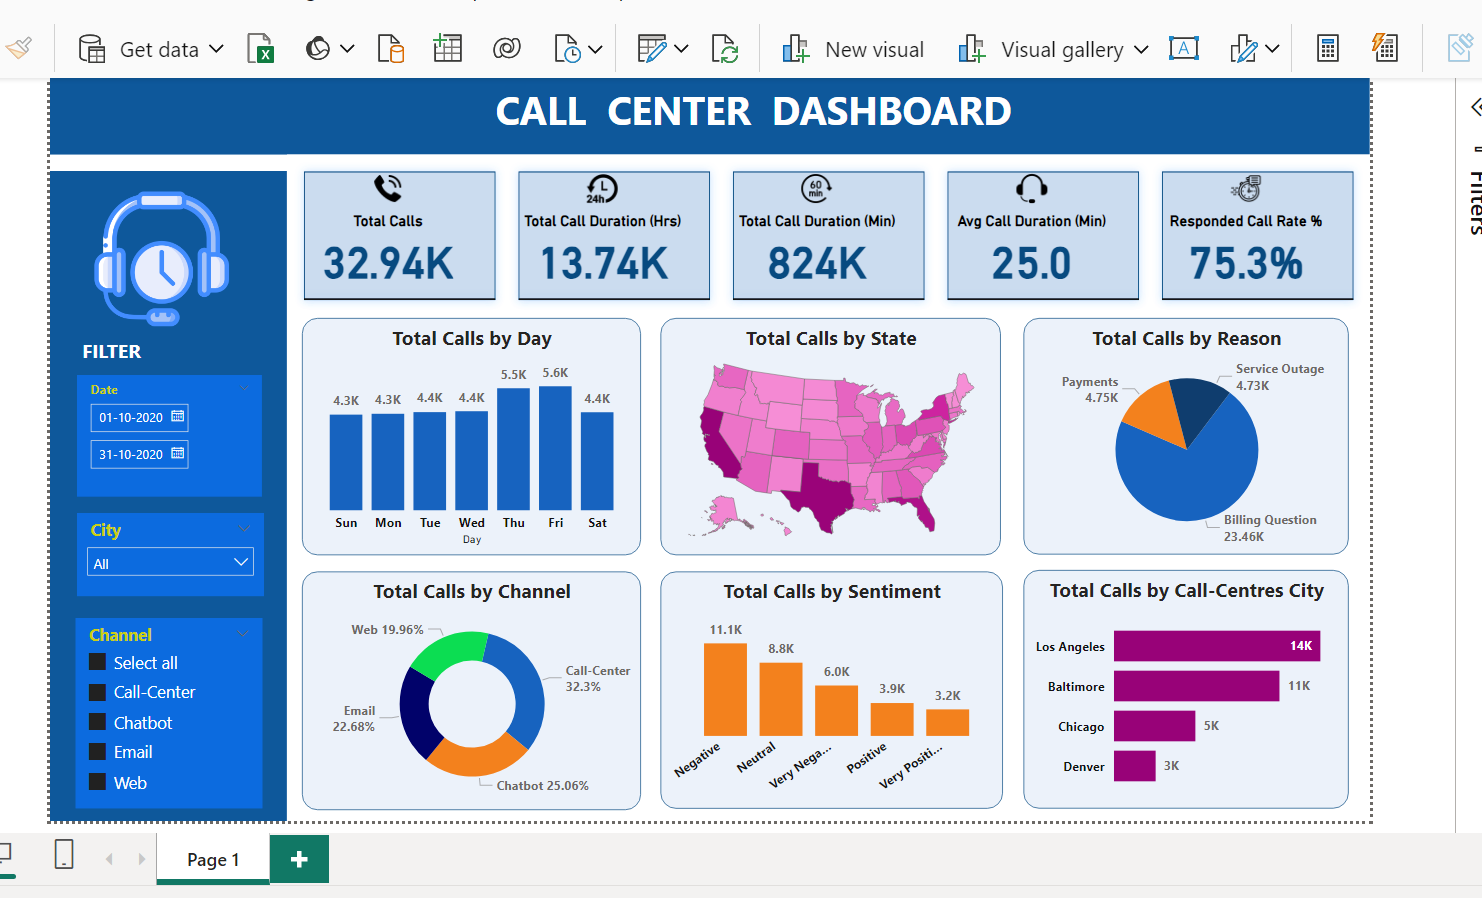

What the dashboard file says about the page in this screenshot:
{"tool":"powerbi","page":{"name":"Page 1","canvas":[1280,720],"ordinal":0},"visuals":[{"type":"shape","box":[0,0,1279.8,74.4],"z":0},{"type":"shape","box":[0,90.6,229.8,631],"z":1000},{"type":"cardVisual","fields":{"Data":["Call Center dataset.Total Calls","Call Center dataset.Total Call Duration (Hrs)","Call Center dataset.Total Call Duration (Min)","Call Center dataset.Avg Call Duration (Min)","Call Center dataset.Responded Call Rate %"]},"box":[229.4,74.8,1051.1,157.8],"z":2000},{"type":"textbox","box":[380.2,0,605.1,74.4],"z":3000},{"type":"clusteredColumnChart","fields":{"Category":["Date_Table.Day"],"Y":["Call Center dataset.Total Calls"]},"box":[244.3,233,328.4,229.8],"z":4000},{"type":"pieChart","fields":{"Series":["Call Center dataset.Reason"],"Y":["Call Center dataset.Total Calls"]},"box":[943.7,232.7,315.7,229.4],"z":5000},{"type":"donutChart","fields":{"Series":["Call Center dataset.Channel"],"Y":["Call Center dataset.Total Calls"]},"box":[244.1,478.4,328.7,231.1],"z":6000},{"type":"clusteredColumnChart","fields":{"Category":["Call Center dataset.Sentiment"],"Y":["Call Center dataset.Total Calls"]},"box":[592.2,478.9,331.7,229.8],"z":7000},{"type":"barChart","fields":{"Category":["Call Center dataset.Call-Centres City"],"Y":["Call Center dataset.Total Calls"]},"box":[943.7,476.7,315.7,231.1],"z":8000},{"type":"shapeMap","fields":{"Category":["Call Center dataset.State"],"Value":["Call Center dataset.Total Calls"]},"box":[592.2,233,330.1,229.8],"z":9000},{"type":"slicer","fields":{"Values":["Date_Table.Date"]},"box":[25.9,288,179.6,118.1],"z":10000},{"type":"slicer","fields":{"Values":["Call Center dataset.Call-Centres City"]},"box":[25.9,422.3,181.2,80.9],"z":11000},{"type":"slicer","fields":{"Values":["Call Center dataset.Channel"]},"box":[24.3,524.2,181.2,184.4],"z":12000},{"type":"image","box":[27.5,105.2,161.8,140.8],"z":13000},{"type":"textbox","box":[25.9,245.9,82.5,42.1],"z":14000}]}

Visuals, with their boxes on the page's 1280x720 design canvas (x1, y1, x2, y2). These are canvas units, not pixel positions in the 1482x898 screenshot, which may show the page scaled, cropped or inside an application window:
shape: [x1=0, y1=0, x2=1280, y2=74]
shape: [x1=0, y1=91, x2=230, y2=722]
cardVisual - Call Center dataset.Total Calls x Call Center dataset.Total Call Duration (Hrs): [x1=229, y1=75, x2=1280, y2=233]
textbox: [x1=380, y1=0, x2=985, y2=74]
clusteredColumnChart - Date_Table.Day x Call Center dataset.Total Calls: [x1=244, y1=233, x2=573, y2=463]
pieChart - Call Center dataset.Reason x Call Center dataset.Total Calls: [x1=944, y1=233, x2=1259, y2=462]
donutChart - Call Center dataset.Channel x Call Center dataset.Total Calls: [x1=244, y1=478, x2=573, y2=710]
clusteredColumnChart - Call Center dataset.Sentiment x Call Center dataset.Total Calls: [x1=592, y1=479, x2=924, y2=709]
barChart - Call Center dataset.Call-Centres City x Call Center dataset.Total Calls: [x1=944, y1=477, x2=1259, y2=708]
shapeMap - Call Center dataset.State x Call Center dataset.Total Calls: [x1=592, y1=233, x2=922, y2=463]
slicer - Date_Table.Date: [x1=26, y1=288, x2=206, y2=406]
slicer - Call Center dataset.Call-Centres City: [x1=26, y1=422, x2=207, y2=503]
slicer - Call Center dataset.Channel: [x1=24, y1=524, x2=206, y2=709]
image: [x1=28, y1=105, x2=189, y2=246]
textbox: [x1=26, y1=246, x2=108, y2=288]
